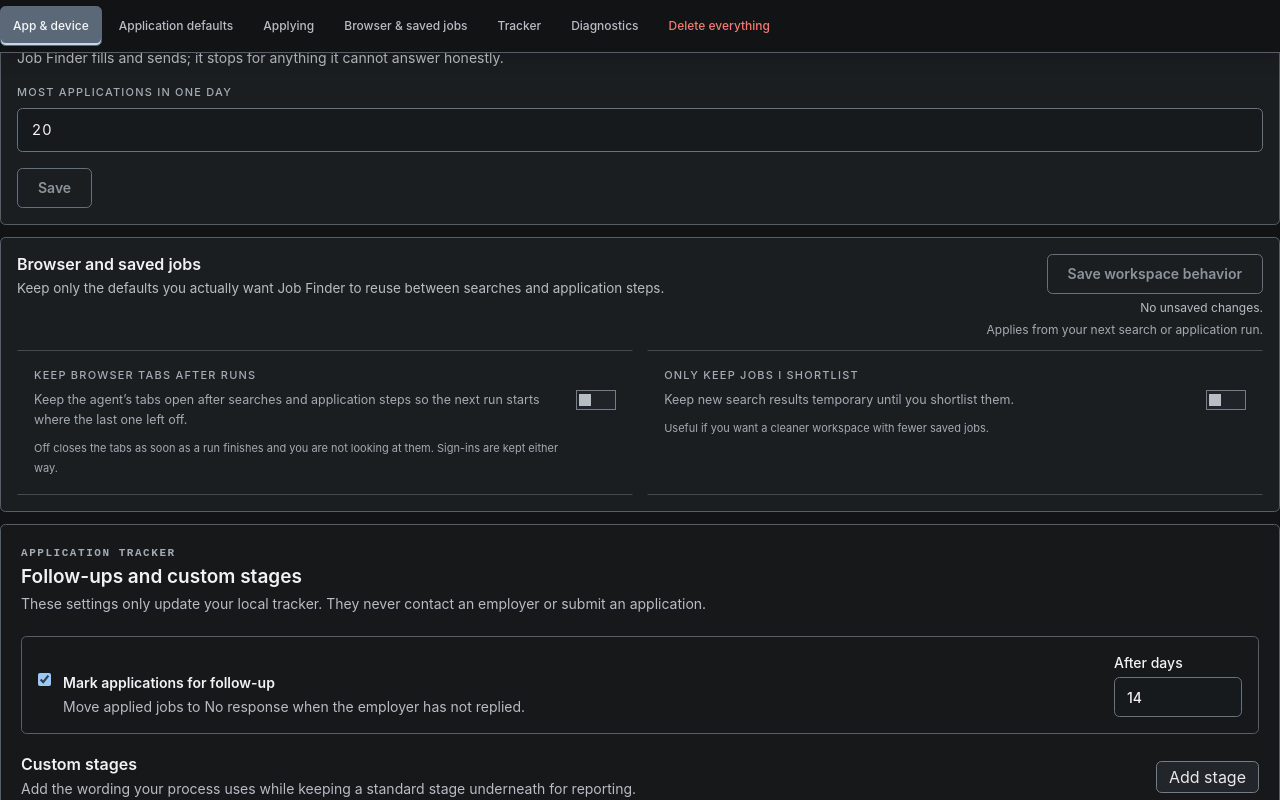
it: Settings save ownership › hides the save reminder until a section is dirty, then names that section and commits only it
(page scrolled)
Click the 1st switch at x=596, y=400, box left=576, top=390, right=616, bottom=410
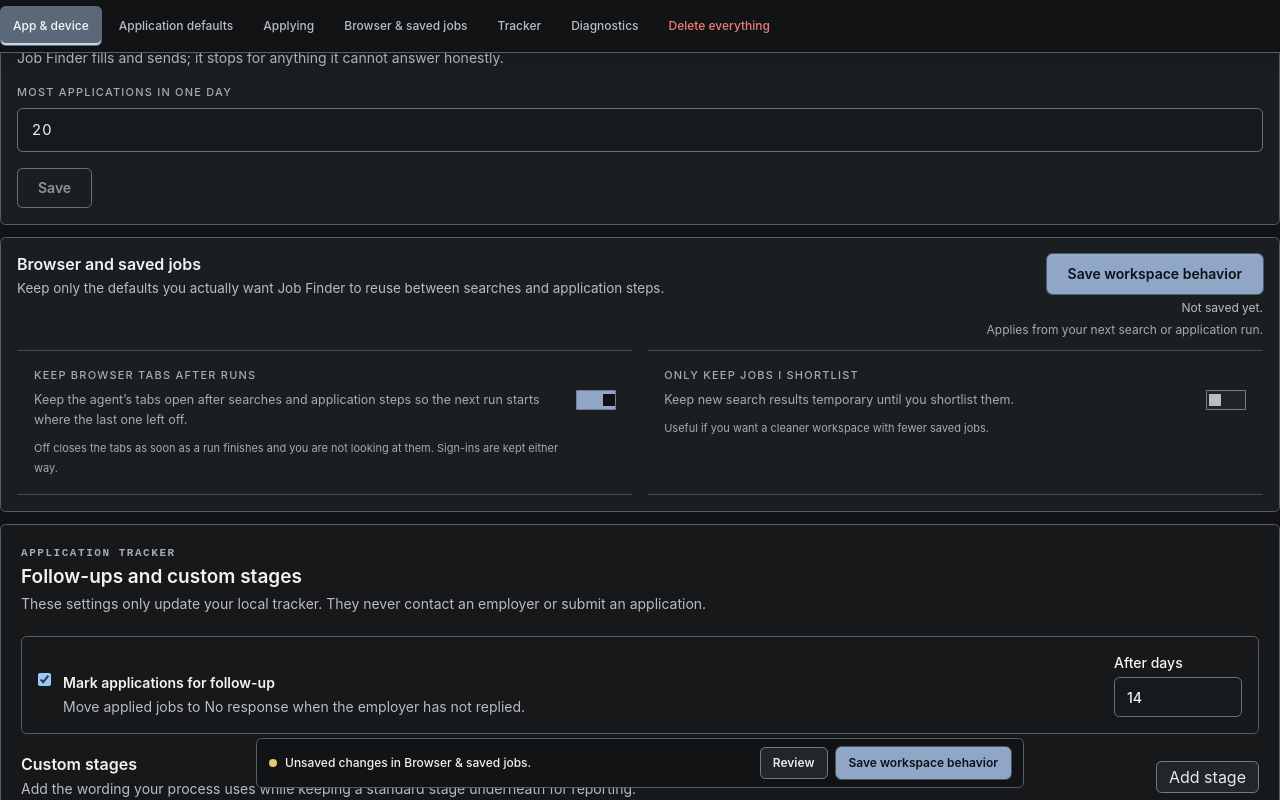
Now the message "Unsaved changes in Browser & saved jobs. Review Save workspace behavior" is shown, box left=256, top=738, right=1024, bottom=788
Click the button "Save workspace behavior" in the row of "Unsaved changes in Browser & saved jobs." at x=923, y=763, box left=836, top=747, right=1011, bottom=779
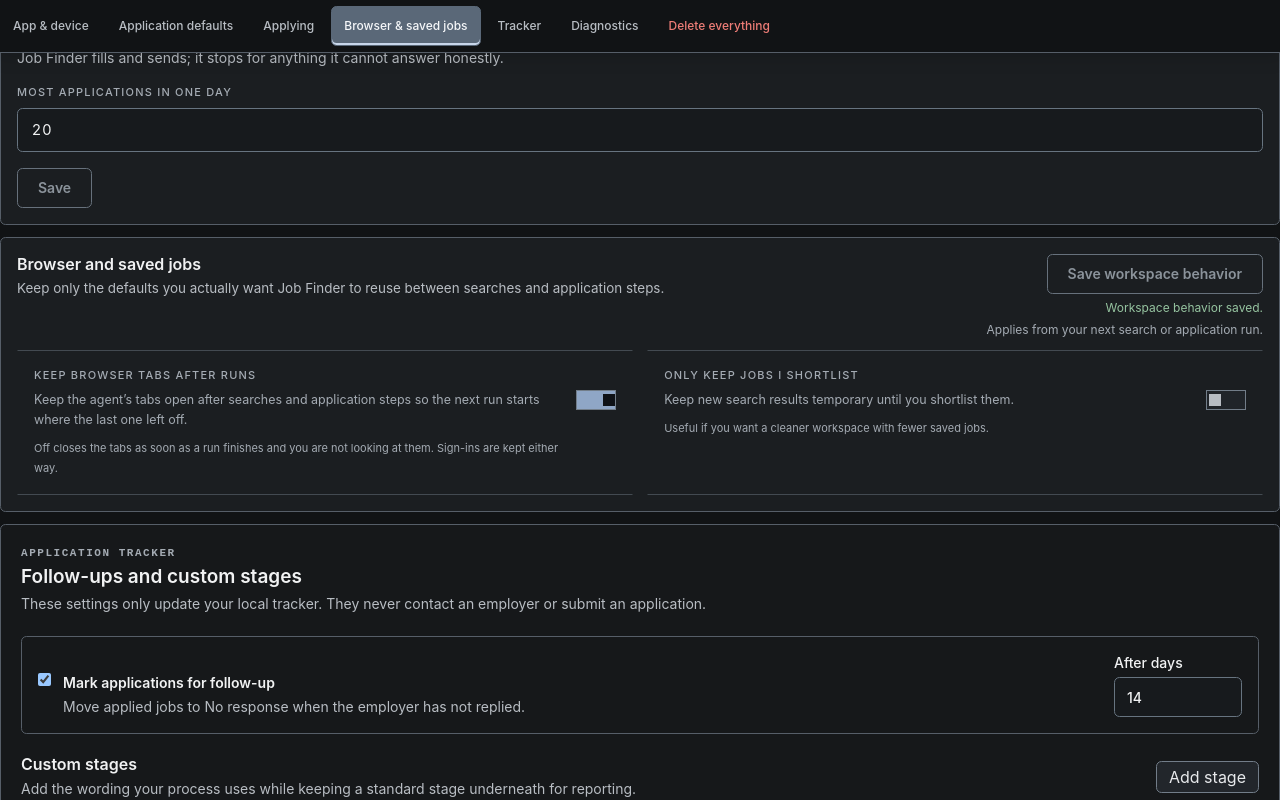
Now the text "Workspace behavior saved." is shown, box left=1106, top=300, right=1263, bottom=316
